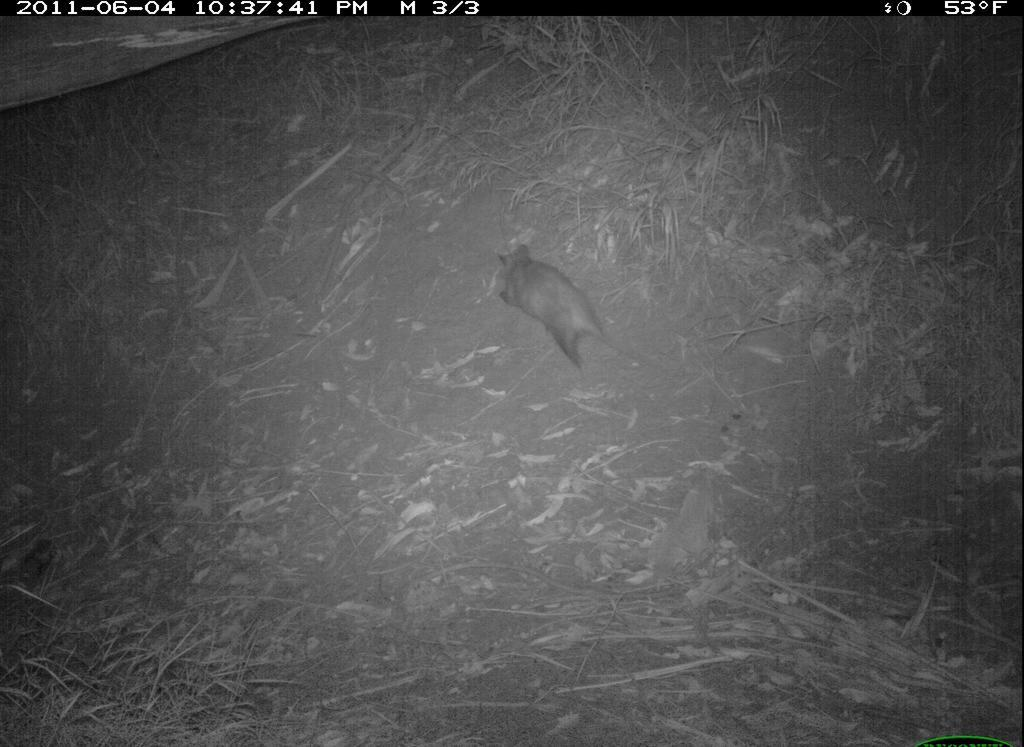opossum: (493, 239, 655, 383)
